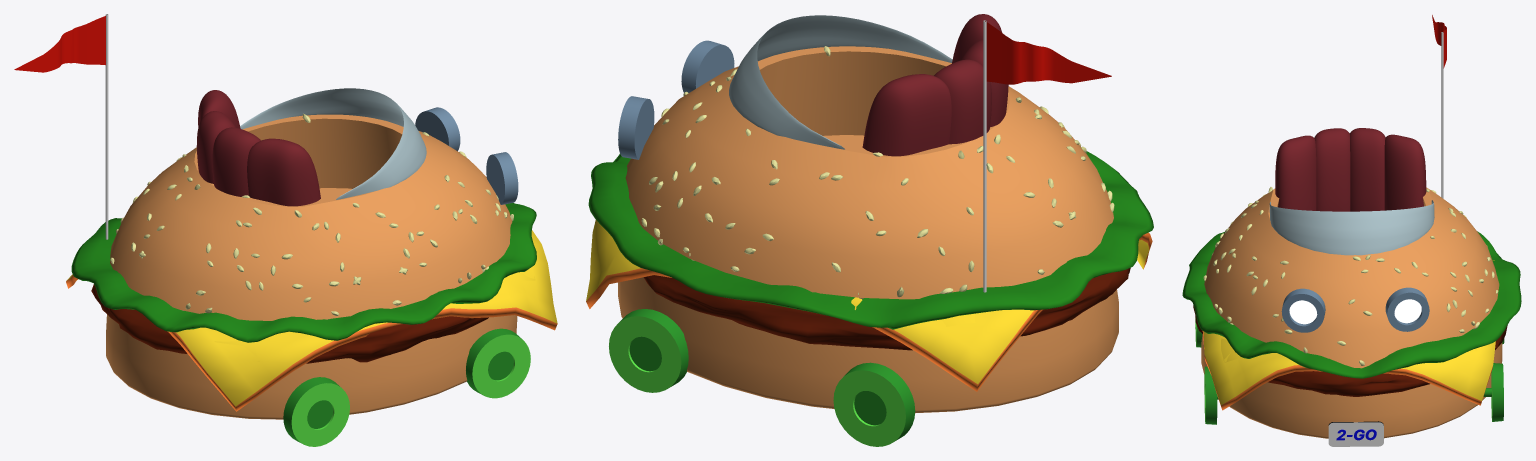
Rendered from giuaky_xe.glb.
3 views of the same model, side by side, from view 1: azimuth 30°, elevation 25°; view 2: azimuth 150°, elevation 25°; view 3: azimuth 270°, elevation 25° (orthographic). The views are drawn at different scales.
Visible parts, largest first — view 1: Sphere.001, Sphere, Circle, Plane, Cube, Sphere.002, Cylinder, Cylinder.002, Cylinder.001, Plane.004, Cylinder.005, Cylinder.006 (+1 smaller); view 2: Sphere.001, Sphere, Circle, Cube, Plane, Sphere.002, Cylinder, Cylinder.003, Cylinder.004, Plane.004, Cylinder.005, Cylinder.006 (+1 smaller); view 3: Sphere.001, Cube, Sphere, Circle, Plane, Sphere.002, Cylinder, Cylinder.005, Cylinder.006, Cube.001, Cylinder.004, Cylinder.001 (+2 smaller).
Boxes of the visible parts, box(x1,y1,x2,y2) form: Sphere.001: box(110, 113, 513, 320); Sphere: box(106, 314, 517, 419); Circle: box(71, 203, 536, 342); Plane: box(66, 230, 557, 411); Cube: box(196, 90, 320, 206); Sphere.002: box(240, 88, 426, 199); Cylinder: box(91, 284, 488, 363); Cylinder.002: box(283, 377, 349, 446); Cylinder.001: box(466, 328, 530, 398); Plane.004: box(14, 16, 105, 72); Cylinder.005: box(486, 152, 518, 204); Cylinder.006: box(415, 107, 460, 151); Sphere.001: box(625, 46, 1114, 299); Sphere: box(618, 277, 1118, 413); Circle: box(588, 151, 1153, 329); Cube: box(862, 14, 1008, 156); Plane: box(586, 219, 1152, 391); Sphere.002: box(729, 15, 952, 149); Cylinder: box(643, 268, 1130, 350); Cylinder.003: box(833, 362, 915, 446); Cylinder.004: box(609, 309, 688, 392); Plane.004: box(985, 21, 1111, 84); Cylinder.005: box(681, 40, 734, 92); Cylinder.006: box(618, 96, 654, 159); Sphere.001: box(1203, 187, 1499, 368); Cube: box(1275, 128, 1426, 211); Sphere: box(1201, 334, 1502, 438); Circle: box(1182, 231, 1521, 378); Plane: box(1202, 260, 1495, 410); Sphere.002: box(1269, 200, 1434, 255); Cylinder: box(1193, 305, 1507, 396); Cylinder.005: box(1281, 288, 1325, 332); Cylinder.006: box(1385, 287, 1429, 331); Cube.001: box(1328, 421, 1383, 446); Cylinder.004: box(1491, 363, 1503, 421); Cylinder.001: box(1204, 366, 1217, 424).
Size of the model in its own units: 1.57 by 1.12 by 1.2.
